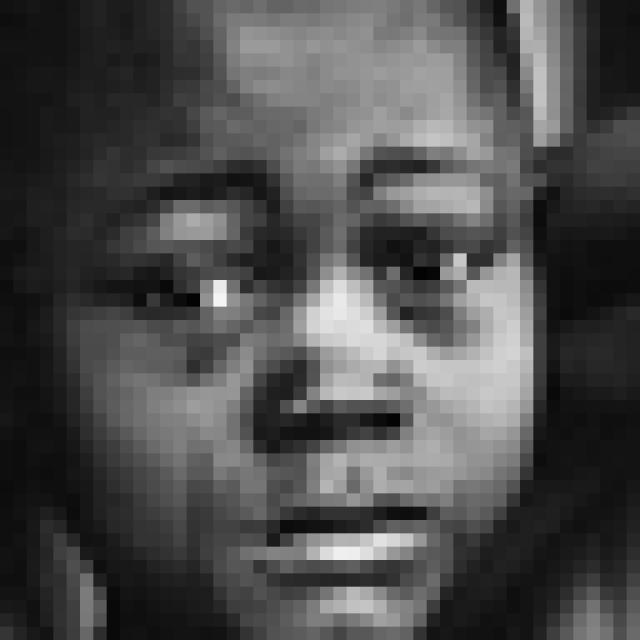sad: (82, 144, 512, 596)
